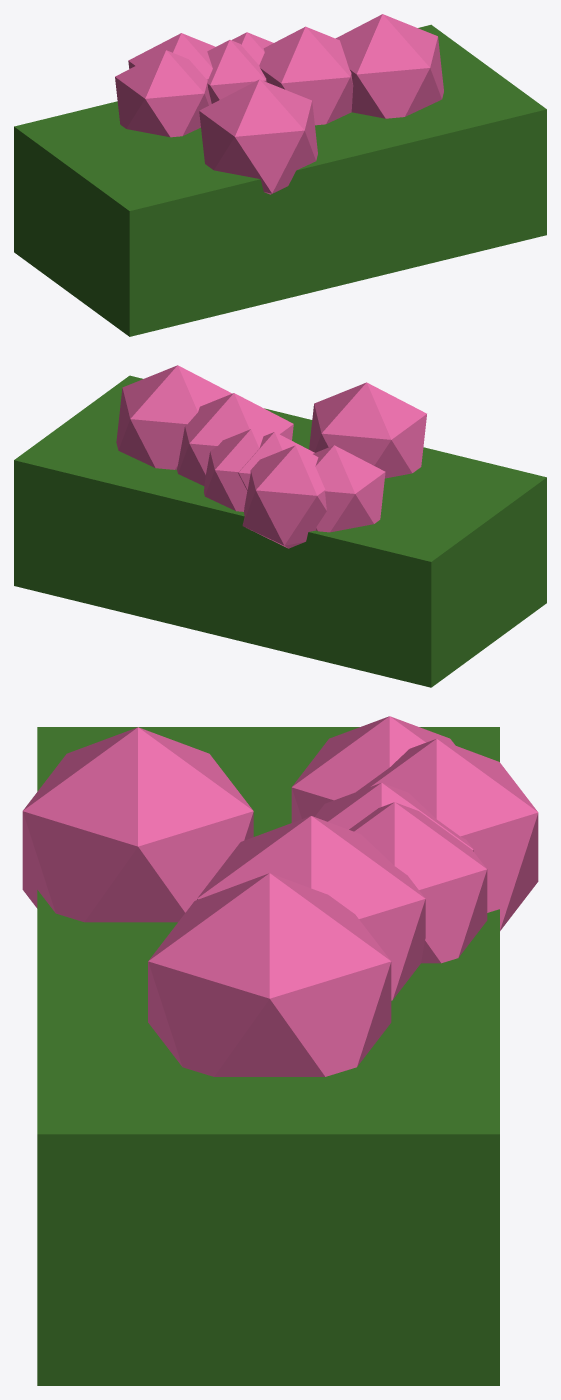
The model's file is flower_row_pink.fbx.
The picture shows the model from 3 angles, top to bottom: view 1: azimuth 30°, elevation 25°; view 2: azimuth 150°, elevation 25°; view 3: azimuth 270°, elevation 25°; orthographic projection. The views are drawn at different scales.
Parts seen in each view (by area): view 1: flower_row_pink; view 2: flower_row_pink; view 3: flower_row_pink.
Boxes of the visible parts, <box> form: flower_row_pink: <box>14,14,546,336</box>; flower_row_pink: <box>14,365,546,687</box>; flower_row_pink: <box>22,716,538,1385</box>.
Size of the model in its own units: 1.25 by 0.5854 by 0.6691.
